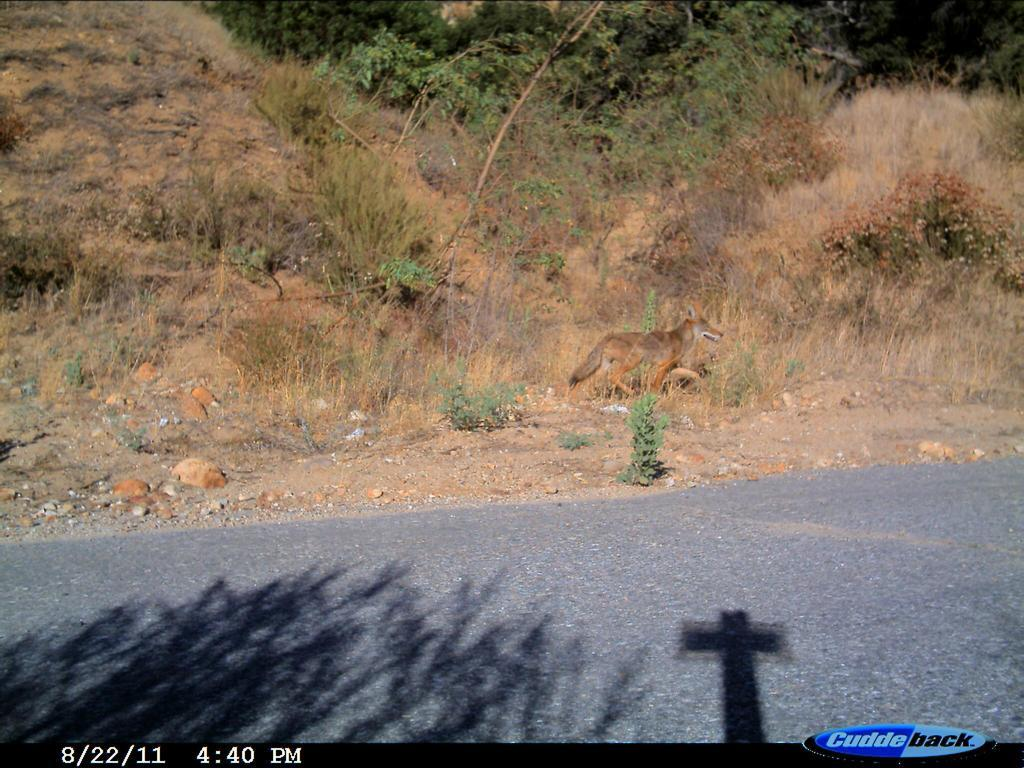coyote: (557, 303, 737, 413)
